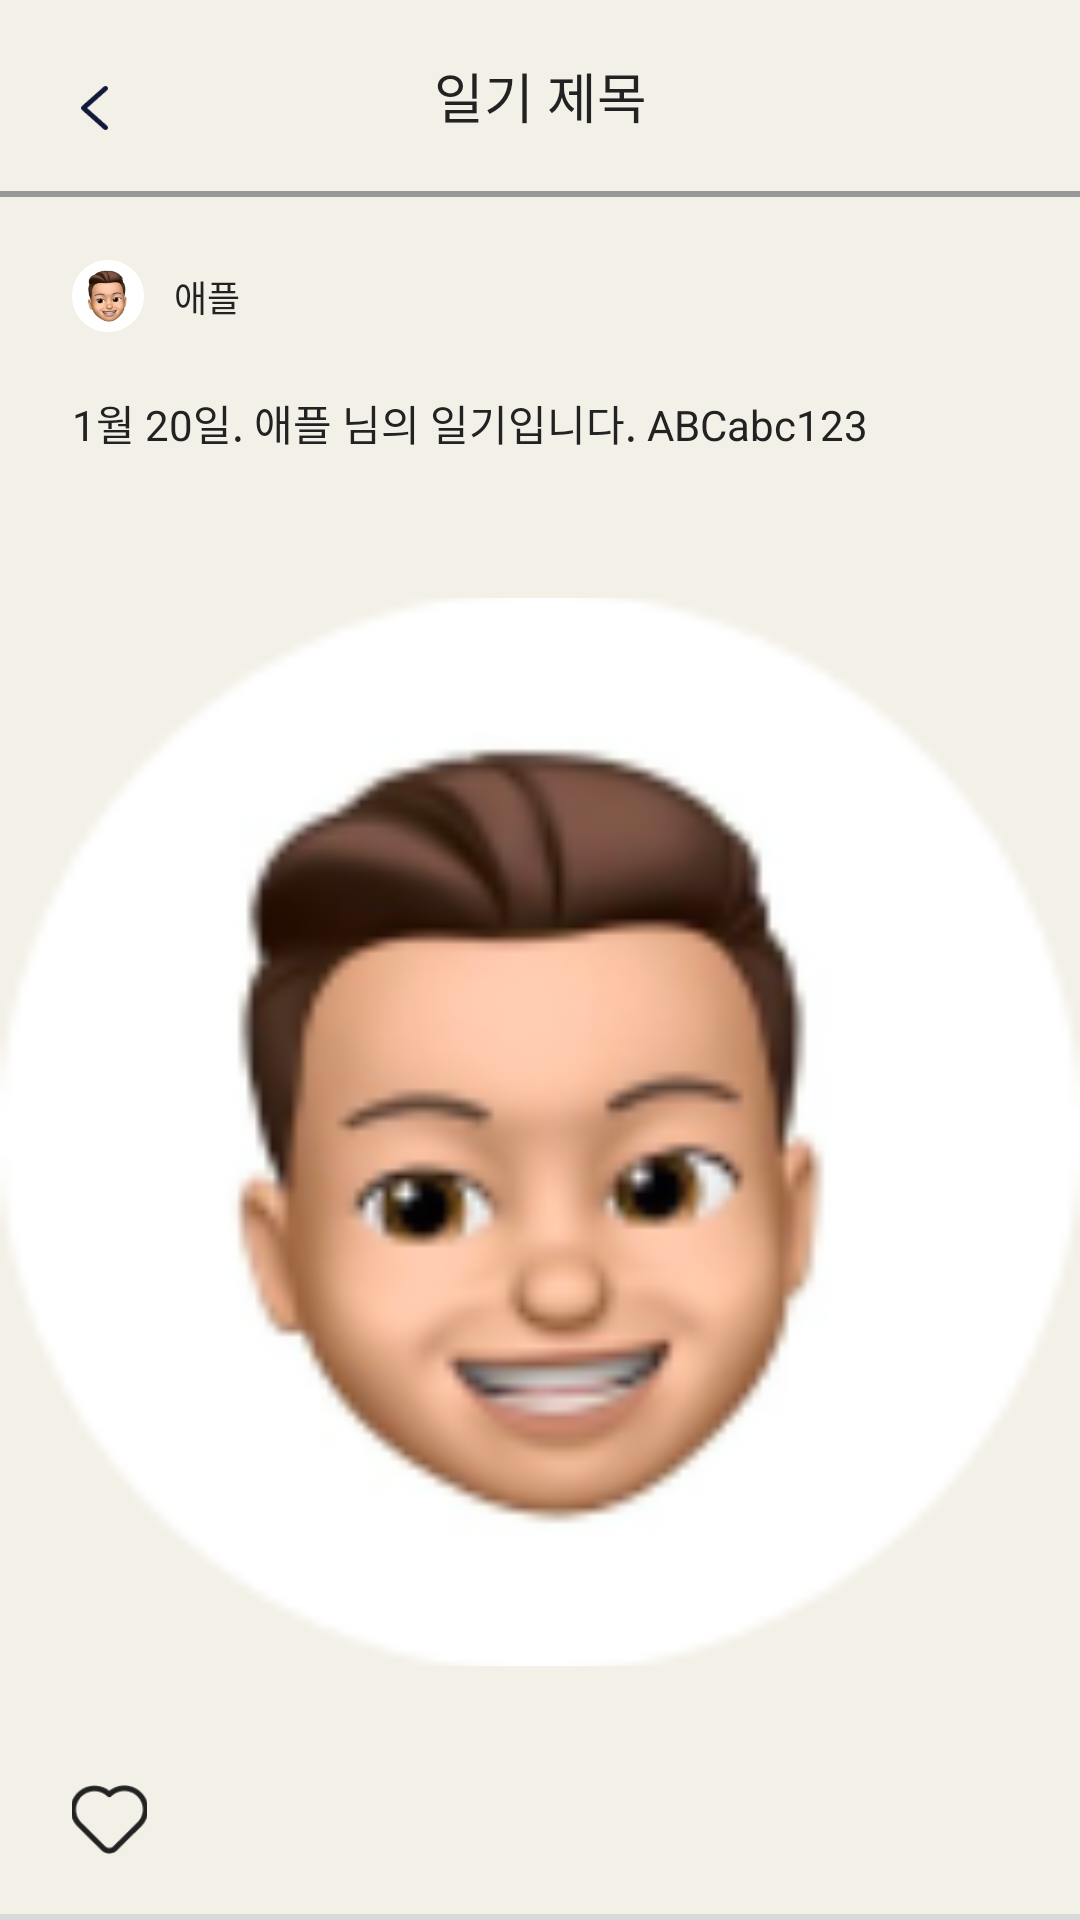

Named icons in this screenshot (1080x1920) and their bounding boxes, region(x1, y1, x2, y2):
arrow: region(81, 86, 108, 130)
